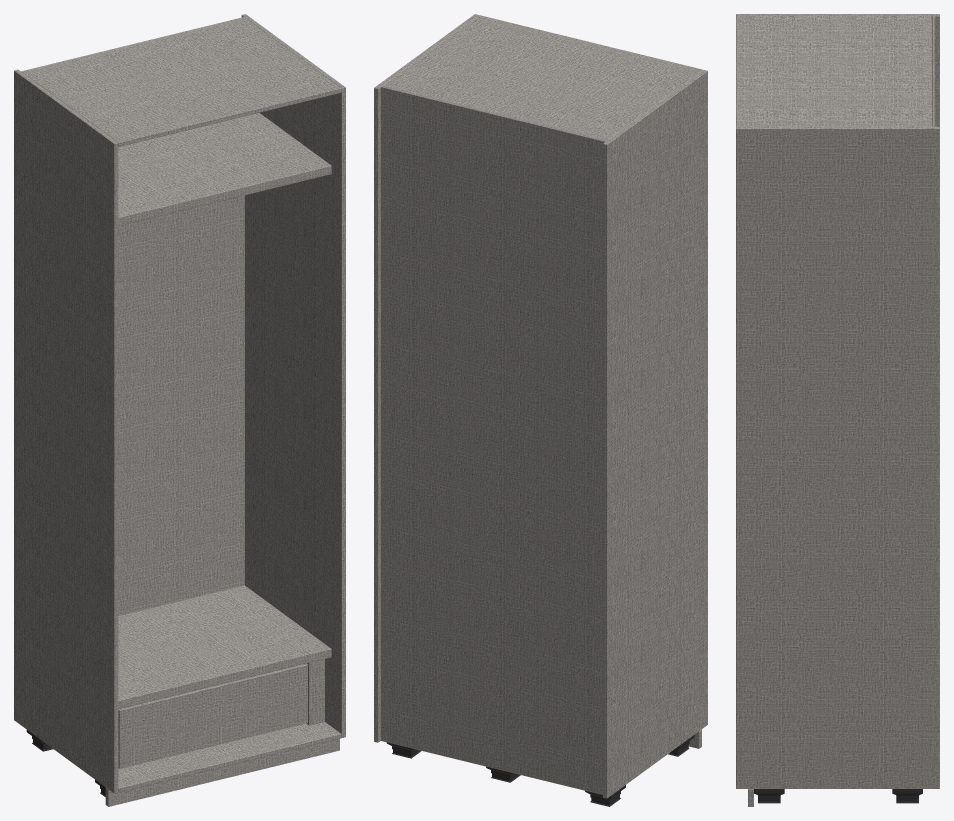
Rendered from cbib12158.gltf.
3 renders of one model, left to right at view 1: azimuth 30°, elevation 25°; view 2: azimuth 150°, elevation 25°; view 3: azimuth 270°, elevation 25°, orthographic.
Visible parts, largest first — view 1: CBIB12158; view 2: CBIB12158; view 3: CBIB12158.
Part boxes in pixels (x1=…): CBIB12158: x1=14, y1=14, x2=345, y2=806; CBIB12158: x1=374, y1=14, x2=707, y2=806; CBIB12158: x1=736, y1=14, x2=939, y2=806.
Bounding box in the file's own units: 0.8 × 2.2 × 0.6.
Materials: 3 (2 with a texture image).
